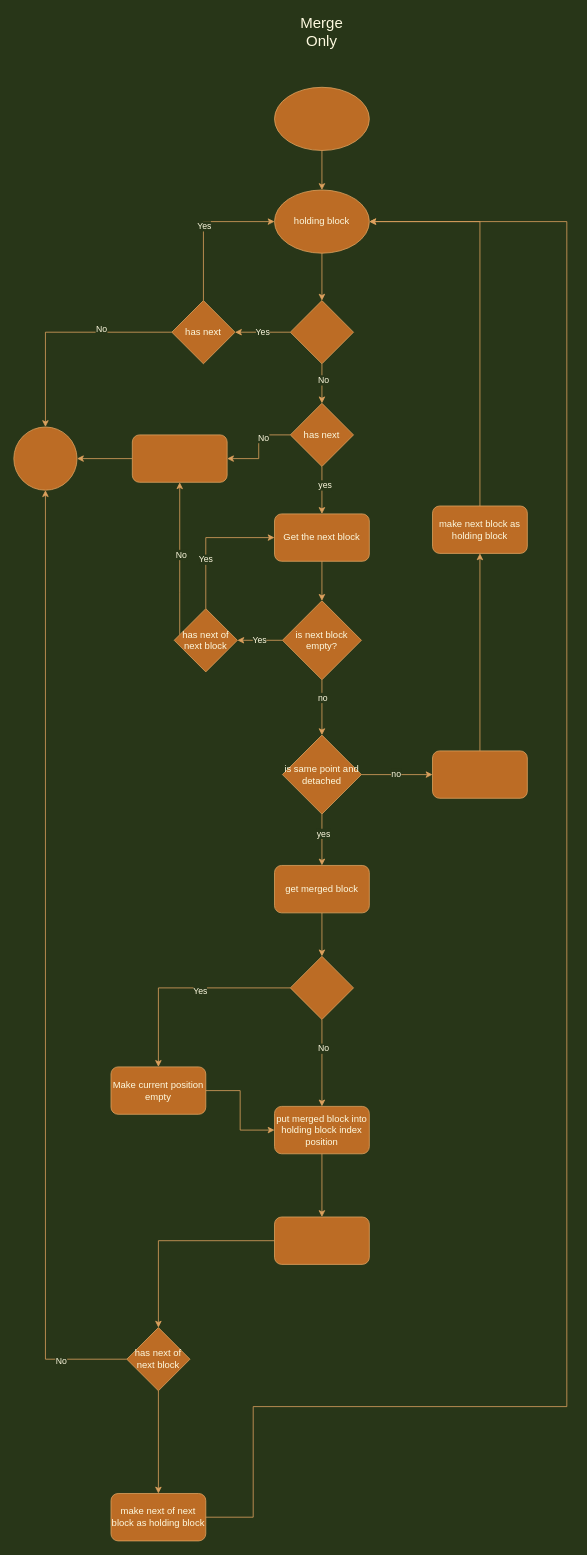
Image size: 587x1555. Some labels were removed from this diagram. The centre of each missing label's shape, as x and y in pixels:
end: the point at 45,458
Get the first block: the point at 321,118
is Empty: the point at 322,332
is holding block detached?: the point at 322,987
make current index empty: the point at 479,774
make holding block empty: the point at 179,458
Make next block position empty: the point at 321,1240
